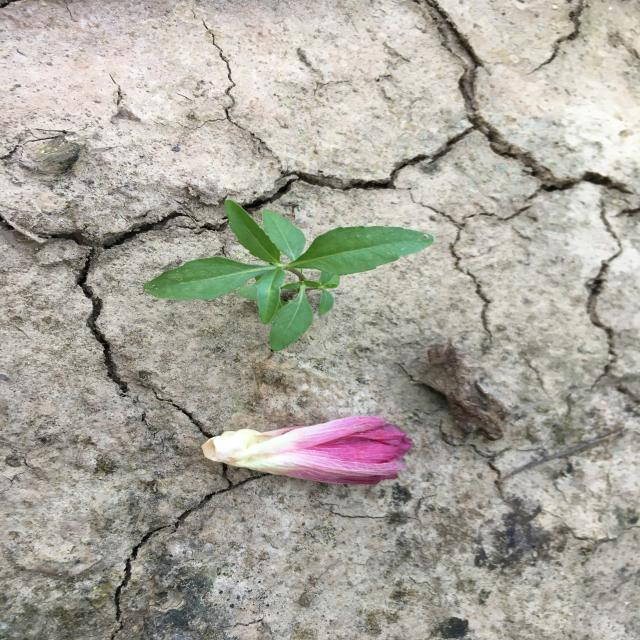Eclipta: (140, 198, 436, 353)
